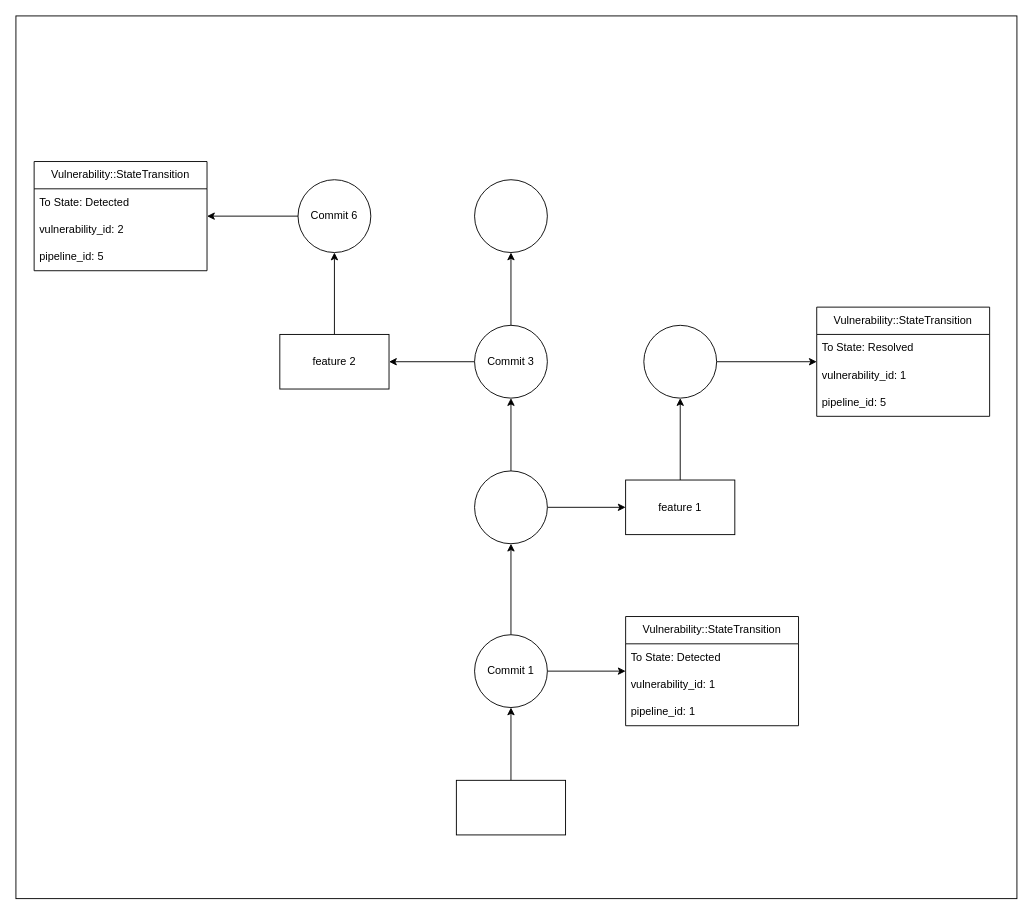
The diagram is 1033 pixels wide and 915 high, and some of its shapes have lost their labels. The shapes that lost their labels are listed below. From the top down, each one's centre as x and y in pixels, then its label:
pixel 510 216: C ommit 4
pixel 680 361: Commit 5
pixel 510 507: Commit 2
pixel 510 807: main
